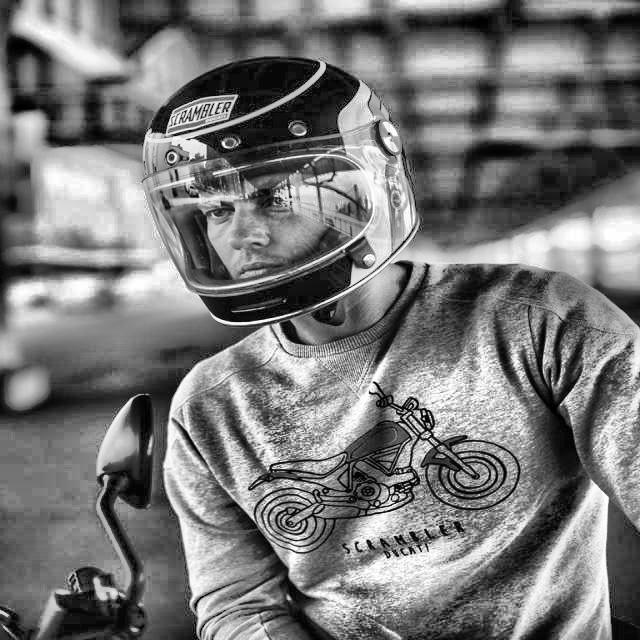Helmet: (130, 48, 432, 332)
